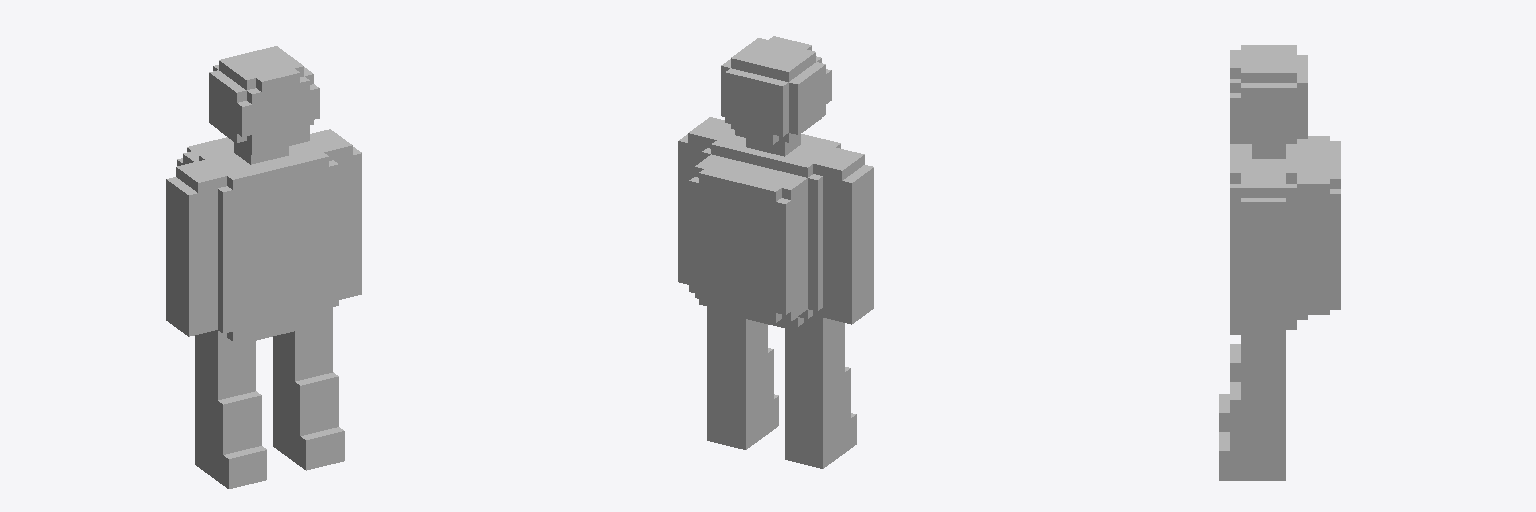
Rendered from player.obj.
The picture shows the model from 3 angles: view 1: azimuth 30°, elevation 25°; view 2: azimuth 150°, elevation 25°; view 3: azimuth 270°, elevation 25°; orthographic projection.
Parts seen in each view (by area): view 1: object 1; view 2: object 1; view 3: object 1.
Boxes of the visible parts, x1,y1,x2,y2 form: object 1: [166, 46, 361, 488]; object 1: [678, 36, 873, 468]; object 1: [1219, 45, 1340, 480].
Bounding box in the file's own units: 1.8 × 3.9 × 1.1.